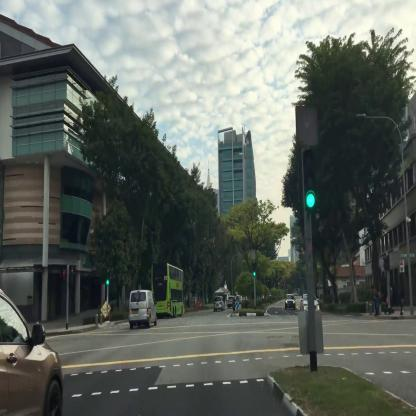green_traffic_light: (304, 152, 315, 212), (253, 262, 256, 276)
